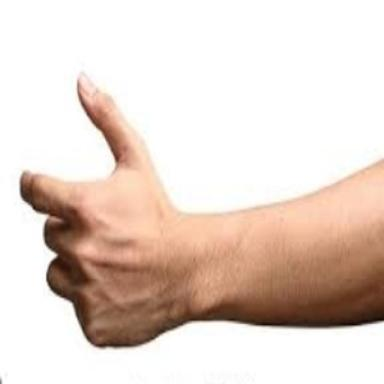normal skin: (21, 76, 384, 345)
